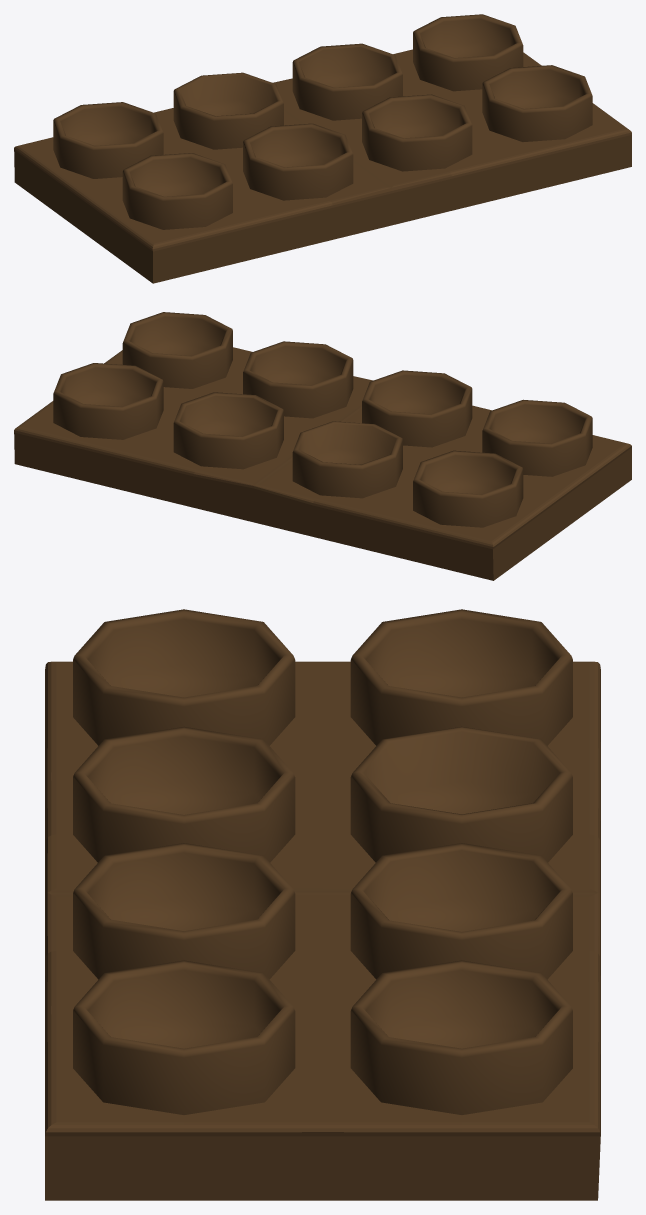
The model's file is Lego_Plat_Long_03.fbx.
3 renders of one model, top to bottom at view 1: azimuth 30°, elevation 25°; view 2: azimuth 150°, elevation 25°; view 3: azimuth 270°, elevation 25°, orthographic. The views are drawn at different scales.
Visible parts, largest first — view 1: Lego_Plat_Long_03; view 2: Lego_Plat_Long_03; view 3: Lego_Plat_Long_03.
Part boxes in pixels (x1,y1,x2,y2): Lego_Plat_Long_03: [14, 14, 631, 283]; Lego_Plat_Long_03: [14, 312, 631, 580]; Lego_Plat_Long_03: [45, 609, 600, 1200].
Size of the model in its own units: 19.93 by 2.72 by 10.
